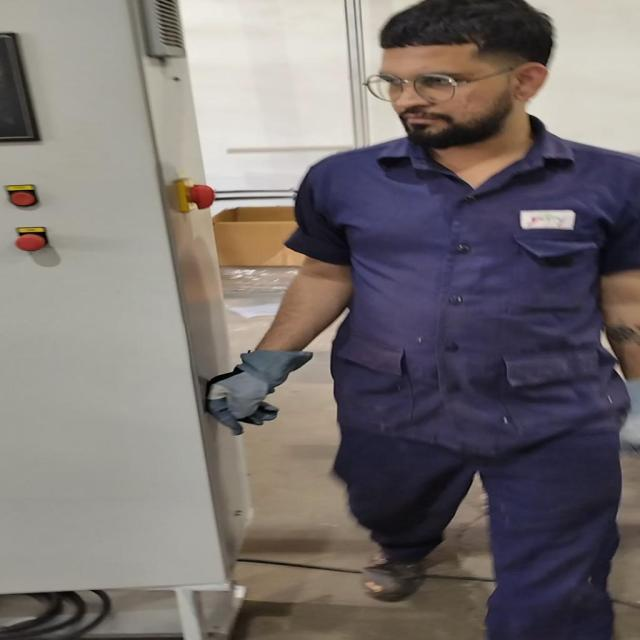Gloves-Detection: (204, 342, 316, 457)
